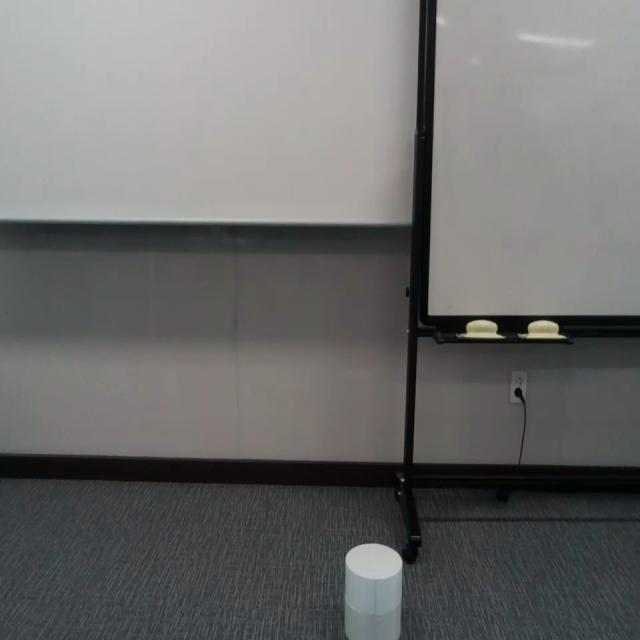cylinder: (345, 540, 403, 639)
